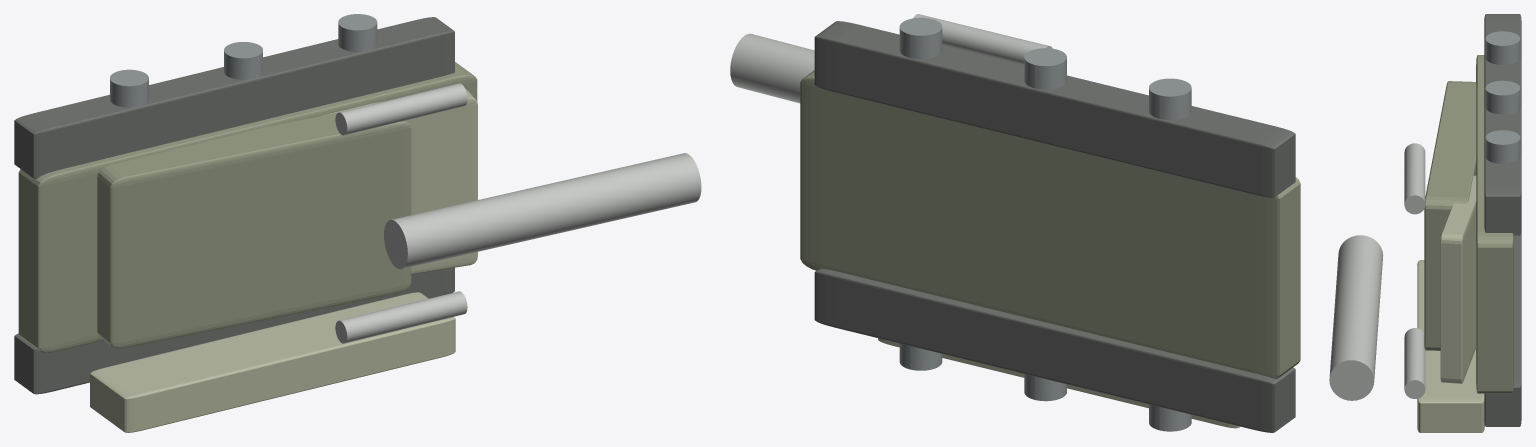
File: v-u20-vanguard-super-heavy-lod2.glb
The picture shows the model from 3 angles, left to right: view 1: azimuth 30°, elevation 25°; view 2: azimuth 150°, elevation 25°; view 3: azimuth 270°, elevation 25°; orthographic projection. The views are drawn at different scales.
Parts seen in each view (by area): view 1: upper_hull, chassis_track_1, armor_belt_-1, chassis_lower, superheavy_main_barrel_0, chassis_track_-1, chassis_glacis, sponson_-1_barrel_0, sponson_1_barrel_0, chassis_roadwheel_1_5, chassis_roadwheel_1_1, chassis_roadwheel_1_3; view 2: chassis_lower, chassis_track_1, chassis_track_-1, superheavy_main_barrel_0, sponson_1_barrel_0, chassis_roadwheel_1_5, chassis_roadwheel_1_1, chassis_roadwheel_1_3, armor_belt_-1, chassis_roadwheel_-1_5, chassis_roadwheel_-1_3, chassis_roadwheel_-1_1; view 3: chassis_lower, upper_hull, superheavy_main_barrel_0, chassis_glacis, chassis_track_1, armor_belt_-1, chassis_track_-1, sponson_1_barrel_0, sponson_-1_barrel_0, chassis_roadwheel_1_3, chassis_roadwheel_1_5, chassis_roadwheel_1_1.
Boxes of the visible parts, box(x1,y1,x2,y2) form: upper_hull: box(97, 112, 411, 348); chassis_track_1: box(14, 17, 454, 178); armor_belt_-1: box(90, 292, 455, 432); chassis_lower: box(18, 62, 477, 352); superheavy_main_barrel_0: box(384, 153, 701, 269); chassis_track_-1: box(14, 267, 454, 394); chassis_glacis: box(321, 89, 477, 274); sponson_-1_barrel_0: box(335, 291, 467, 343); sponson_1_barrel_0: box(335, 83, 467, 135); chassis_roadwheel_1_5: box(338, 14, 377, 51); chassis_roadwheel_1_1: box(110, 69, 148, 107); chassis_roadwheel_1_3: box(224, 42, 262, 79); chassis_lower: box(800, 70, 1300, 378); chassis_track_1: box(814, 21, 1295, 197); chassis_track_-1: box(814, 268, 1295, 432); superheavy_main_barrel_0: box(730, 33, 814, 103); sponson_1_barrel_0: box(913, 14, 1052, 64); chassis_roadwheel_1_5: box(899, 17, 942, 59); chassis_roadwheel_1_1: box(1149, 78, 1191, 119); chassis_roadwheel_1_3: box(1024, 48, 1066, 89); armor_belt_-1: box(878, 338, 1240, 428); chassis_roadwheel_-1_5: box(899, 343, 942, 370); chassis_roadwheel_-1_3: box(1024, 374, 1066, 401); chassis_roadwheel_-1_1: box(1149, 404, 1191, 431); chassis_lower: box(1476, 55, 1513, 393); upper_hull: box(1424, 81, 1476, 350); superheavy_main_barrel_0: box(1329, 235, 1383, 400); chassis_glacis: box(1440, 175, 1476, 383); chassis_track_1: box(1484, 14, 1521, 235); armor_belt_-1: box(1417, 260, 1484, 432); chassis_track_-1: box(1484, 230, 1521, 426); sponson_1_barrel_0: box(1404, 143, 1425, 214); sponson_-1_barrel_0: box(1404, 328, 1425, 398); chassis_roadwheel_1_3: box(1485, 80, 1520, 114); chassis_roadwheel_1_5: box(1485, 130, 1520, 163); chassis_roadwheel_1_1: box(1485, 31, 1520, 64).
Size of what is drawn, in the model's own units: 12.27 by 6.24 by 3.96.
